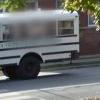Bus: (2, 8, 87, 82)
